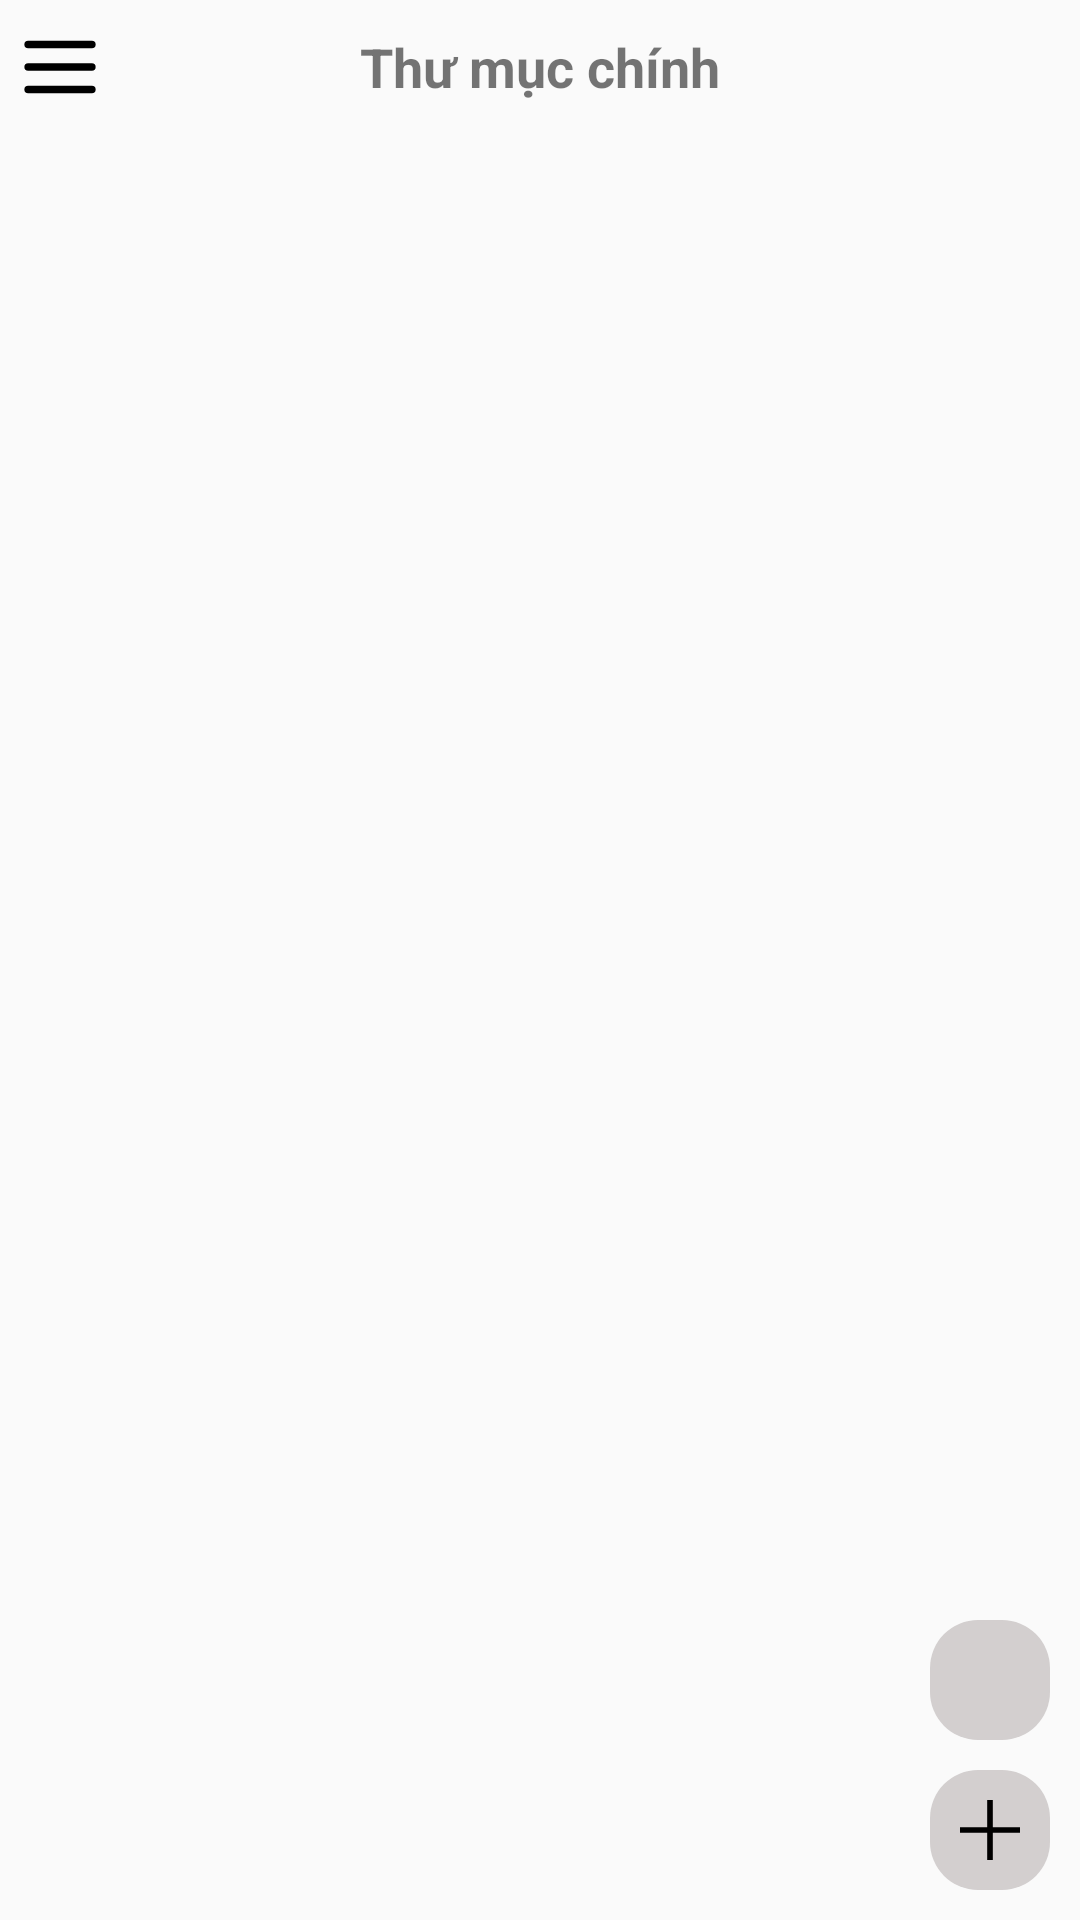

Named icons in this screenshot (1080 x 1920) and their centers, (x,y):
add: (990,1830)
hamburger: (60,67)
